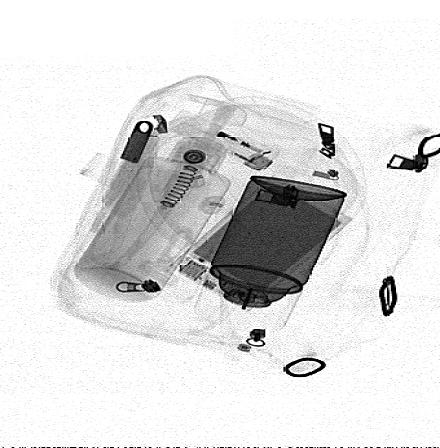Lighter: (166, 108, 280, 172)
Powerbank: (166, 175, 354, 313)
Sprayer: (194, 175, 348, 334)
